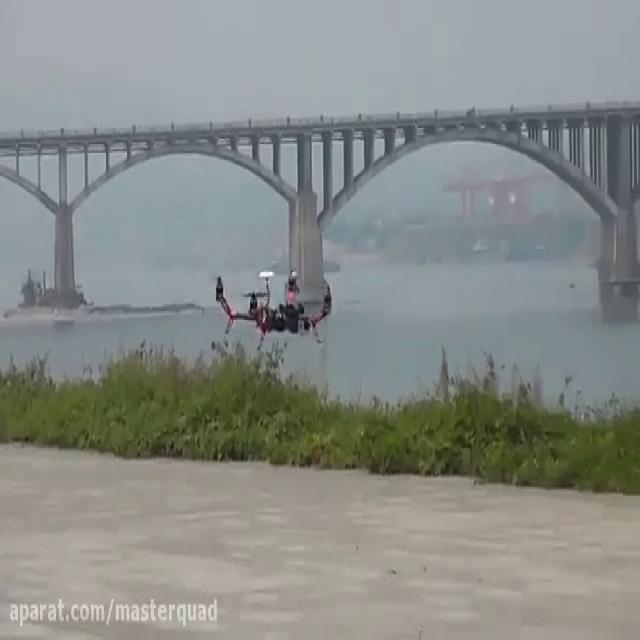drone: (206, 265, 344, 345)
